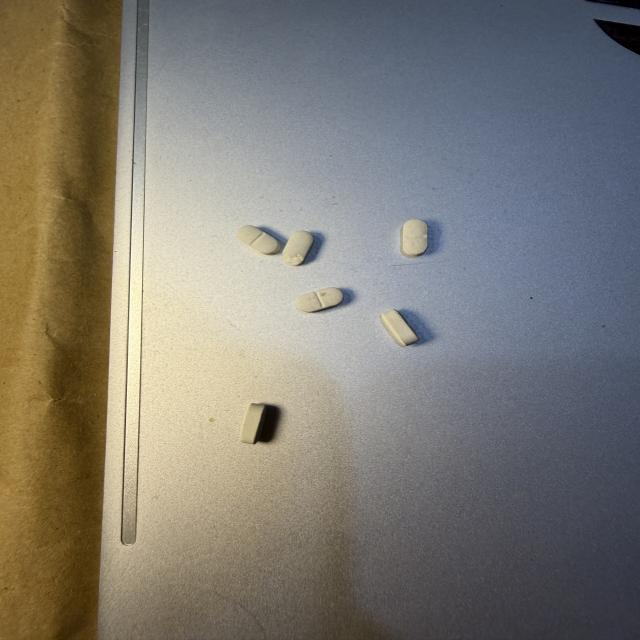pill: (381, 310, 418, 346), (296, 287, 343, 313), (237, 226, 279, 254), (240, 403, 266, 444), (283, 231, 313, 265), (401, 220, 427, 257)
